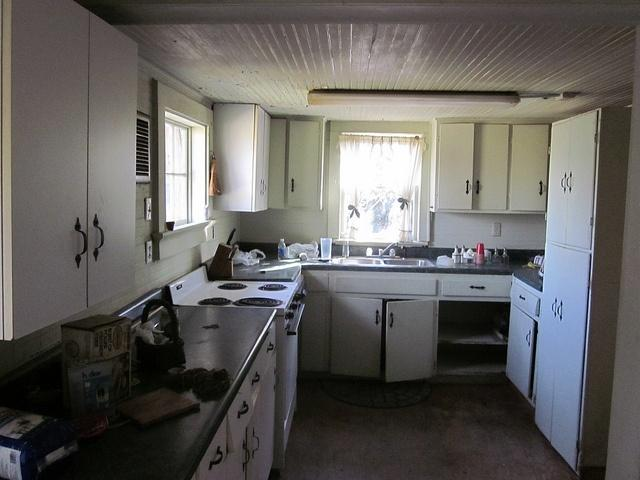Lemari: (531, 106, 631, 479), (428, 117, 551, 213), (213, 99, 272, 211)
